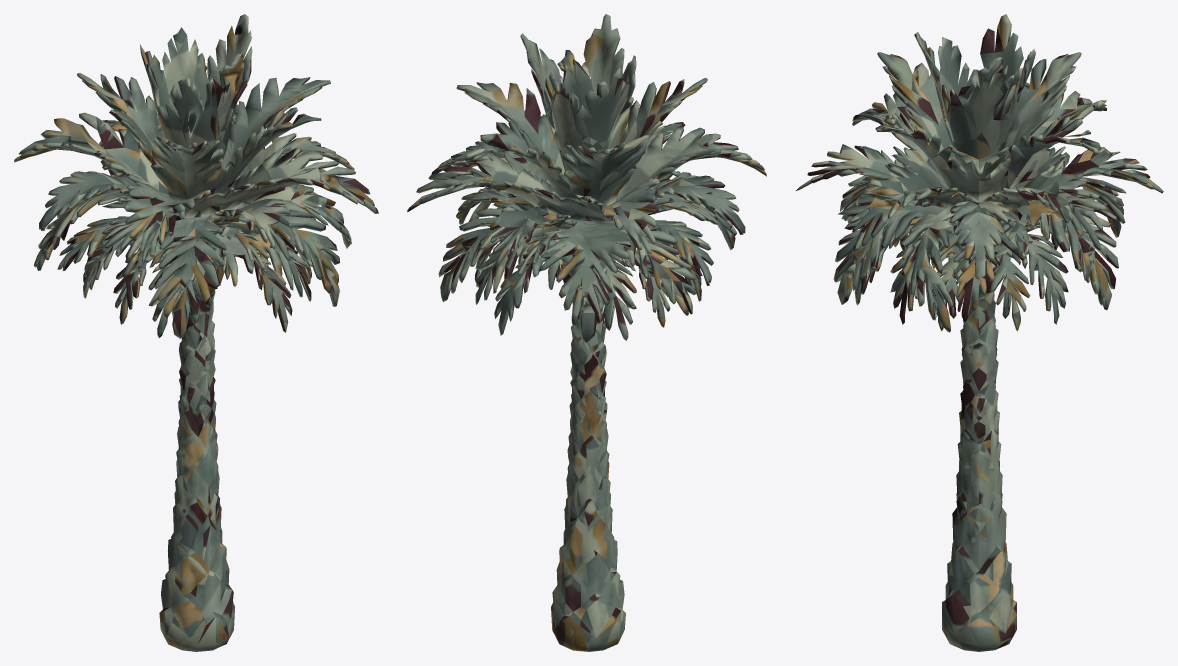
Rendered from Tree 2.fbx.
3 renders of one model, left to right at view 1: azimuth 30°, elevation 25°; view 2: azimuth 150°, elevation 25°; view 3: azimuth 270°, elevation 25°, orthographic. The views are drawn at different scales.
Parts seen in each view (by area): view 1: tripo_node_53cbfeb8; view 2: tripo_node_53cbfeb8; view 3: tripo_node_53cbfeb8.
Boxes of the visible parts, bbox=[...] form: tripo_node_53cbfeb8: bbox=[14, 14, 378, 651]; tripo_node_53cbfeb8: bbox=[407, 14, 766, 651]; tripo_node_53cbfeb8: bbox=[796, 14, 1163, 651].
Size of the model in its own units: 0.5438 by 0.9995 by 0.5457.
